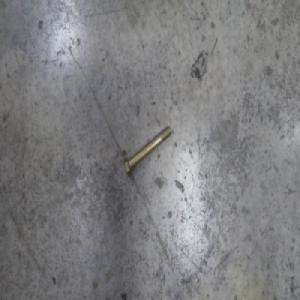Bolt: (122, 123, 172, 180)
